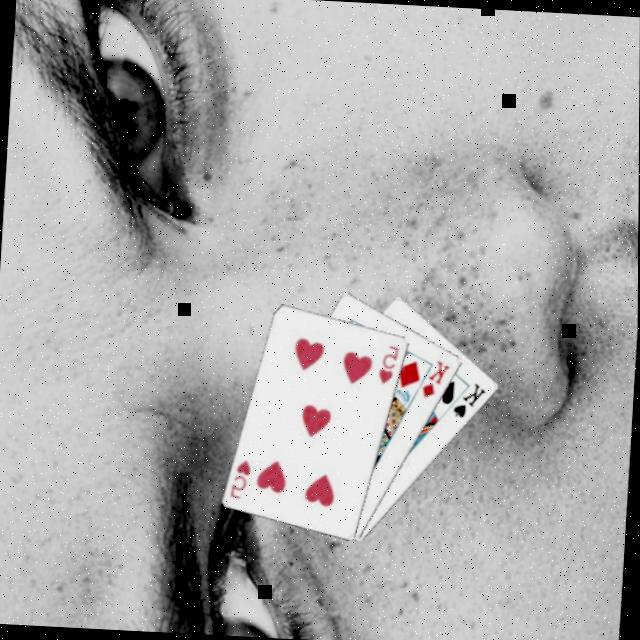5H: (375, 339, 402, 386), (227, 454, 254, 501)
KD: (419, 355, 453, 401)
KS: (449, 376, 489, 420)
